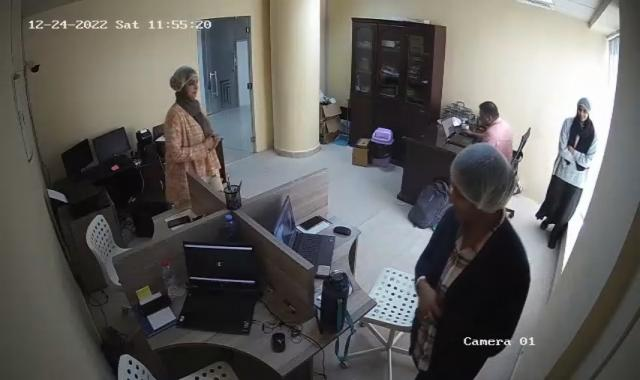hairnet: (447, 145, 515, 221), (168, 66, 200, 102), (576, 93, 591, 124)
no_hairnet: (475, 99, 500, 128)
